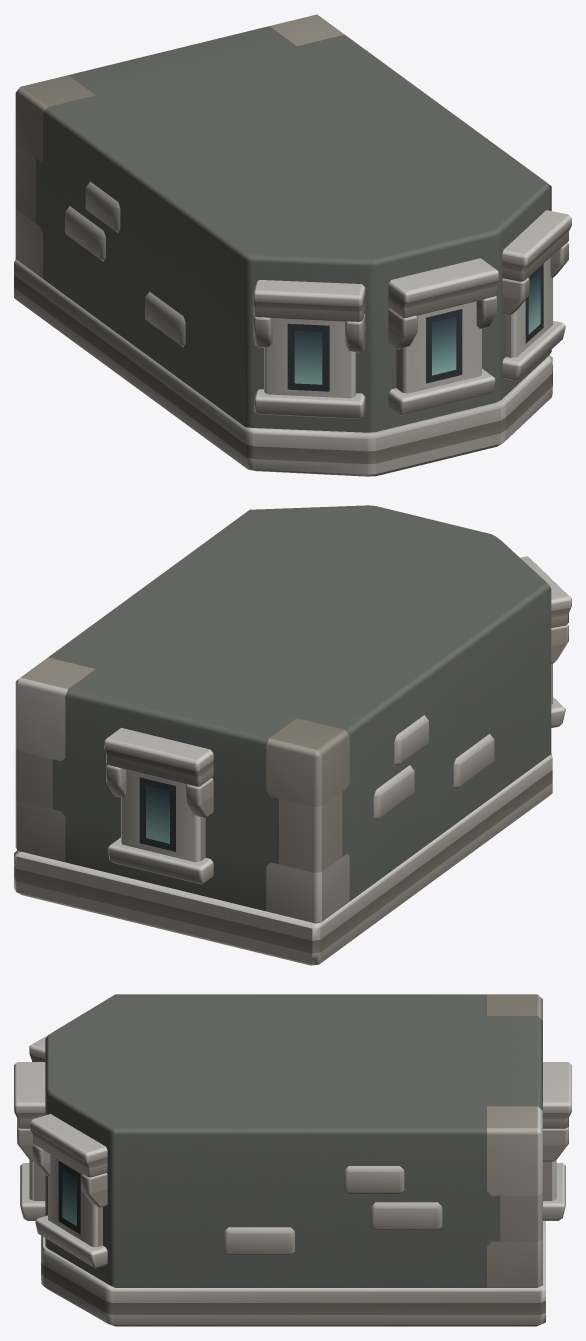
File: appartment_type4_element_grey.fbx
3 views of the same model, one above another, from view 1: azimuth 30°, elevation 25°; view 2: azimuth 150°, elevation 25°; view 3: azimuth 270°, elevation 25° (orthographic). The views are drawn at different scales.
Parts seen in each view (by area): view 1: appartment_type4_element_grey; view 2: appartment_type4_element_grey; view 3: appartment_type4_element_grey.
Part boxes in pixels (box(x1,y1,x2,y2)): appartment_type4_element_grey: box(14, 14, 571, 476); appartment_type4_element_grey: box(14, 505, 571, 965); appartment_type4_element_grey: box(14, 994, 571, 1326).
Bounding box in the file's own units: 630 × 409 × 1043.
